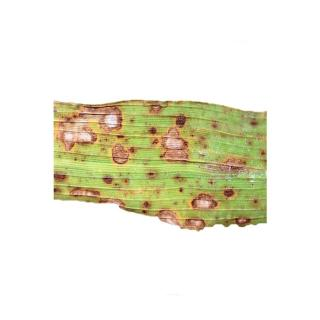Blast: (138, 201, 264, 231), (220, 112, 266, 178), (157, 116, 195, 174), (58, 108, 96, 157), (57, 170, 120, 198), (105, 108, 126, 142)
